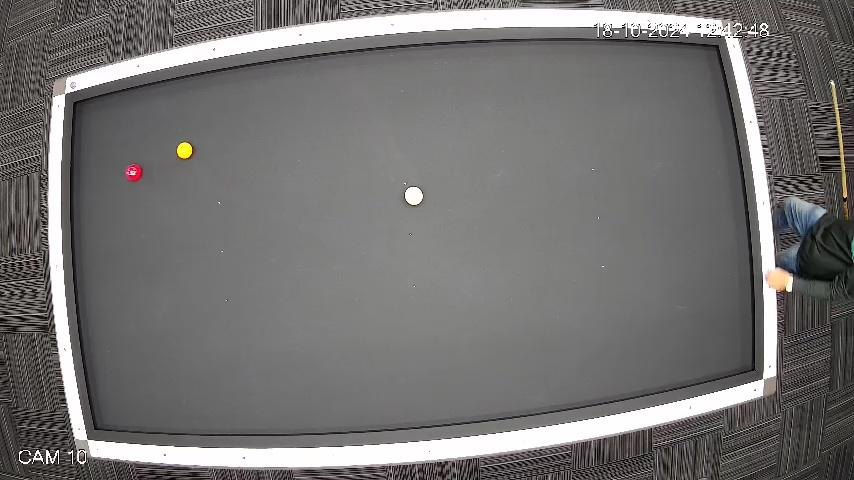Red: (124, 162, 143, 184)
White: (402, 186, 424, 206)
Yellow: (175, 140, 194, 162)
